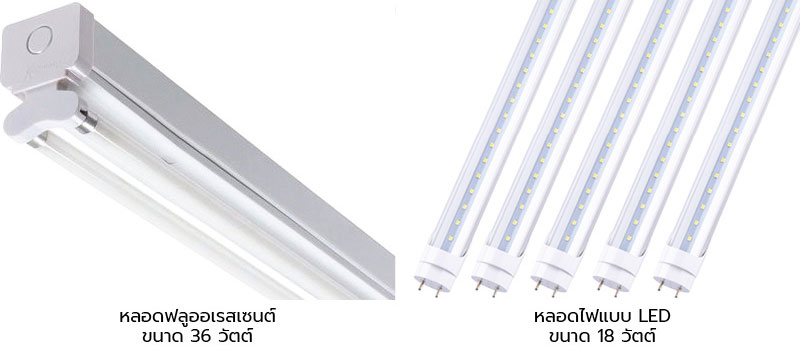Light_bulb: (72, 111, 352, 304), (21, 124, 304, 304), (409, 1, 578, 300), (651, 1, 800, 300)
